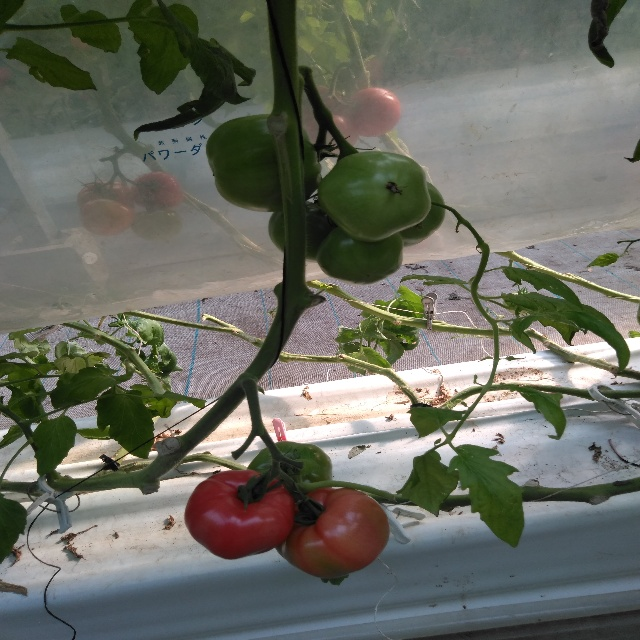b_fully_ripened: (183, 469, 296, 560)
b_green: (206, 113, 322, 213), (317, 151, 431, 242), (245, 441, 333, 502), (317, 226, 404, 286), (268, 200, 338, 263), (398, 181, 446, 250)
b_half_ripened: (275, 487, 390, 579)
